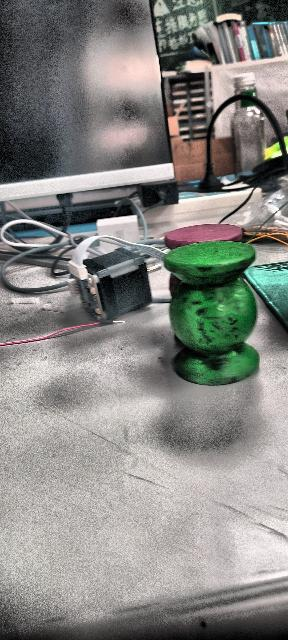green: (164, 238, 260, 386)
red: (159, 220, 257, 246)
